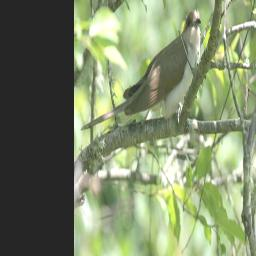Cuckoo: (80, 7, 201, 136)
